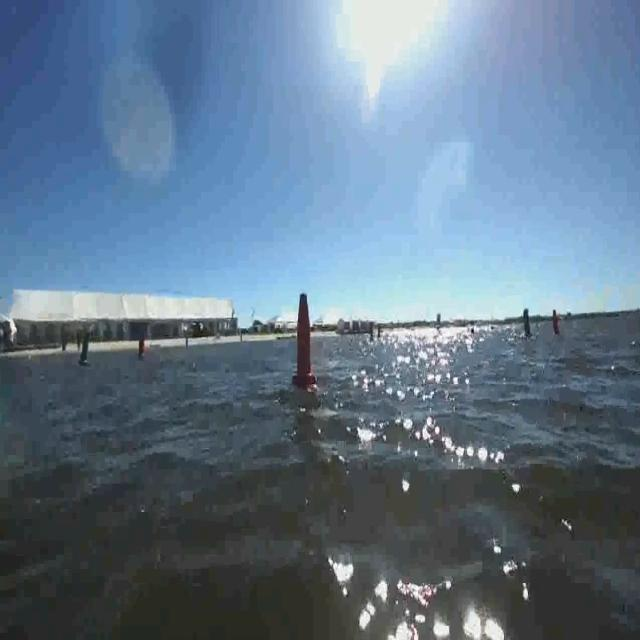red-column-buoy: (293, 290, 319, 392)
